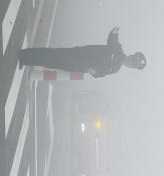person: (16, 25, 147, 79)
